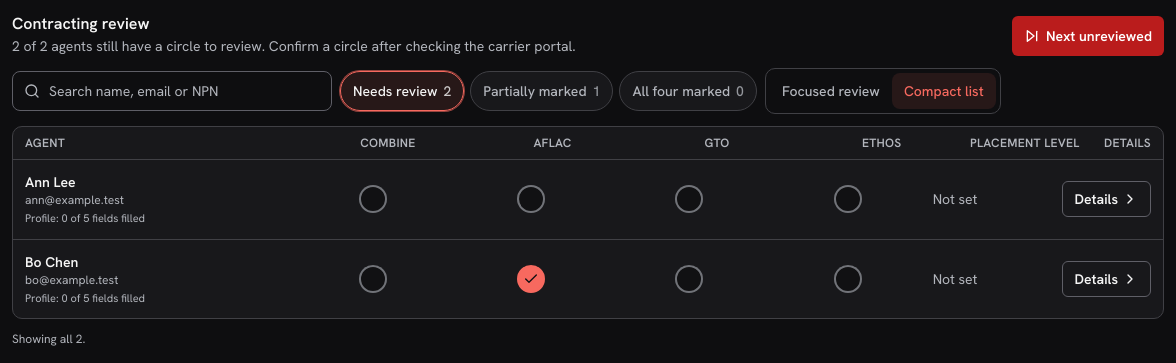
Test: tapping a circle › saves immediately with the state the screen believed it was in, and shows Confirmed with an Undo
Expected: the text "Ann Lee" is shown, [25,172,76,192]
Click the button named "GTO:" in the row of "Ann Lee" at (689, 199), box [667,177,711,221]
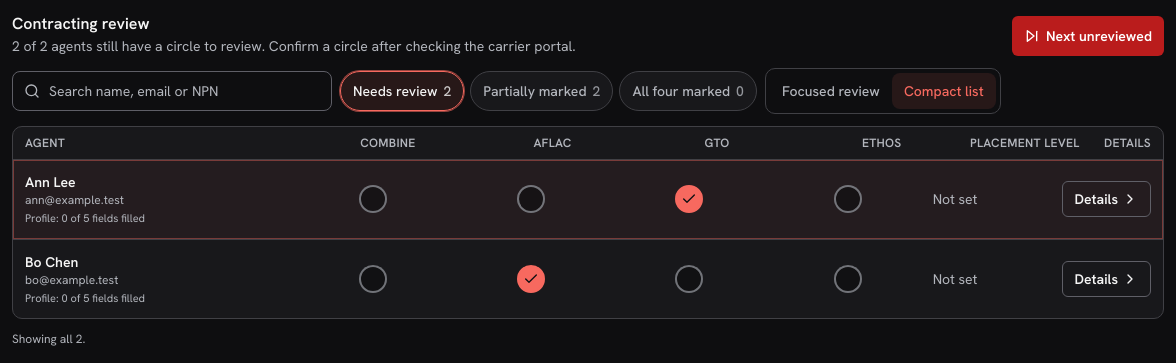
Expected: the button named "GTO: Confirmed" is pressed, [667,177,711,221]
